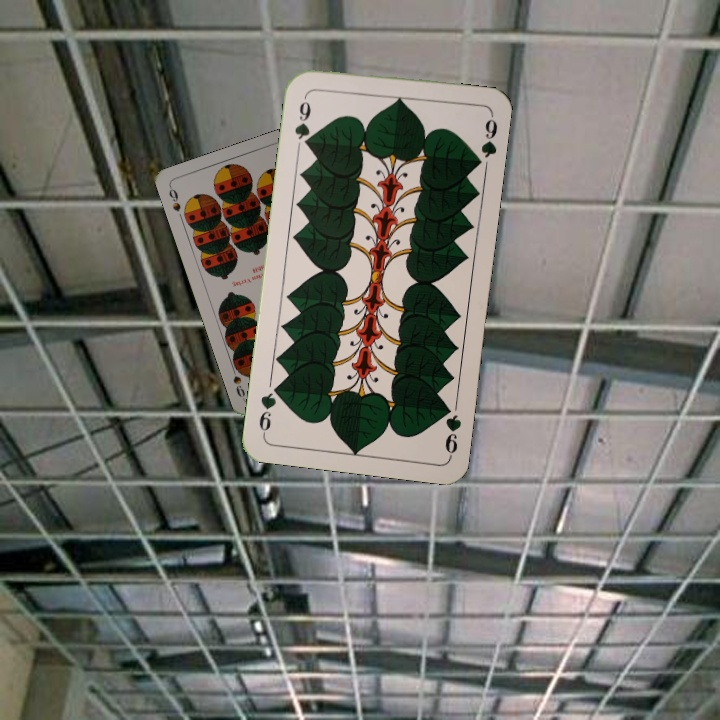G9: (439, 399, 464, 459), (290, 89, 313, 149)
S9: (165, 182, 183, 214)
